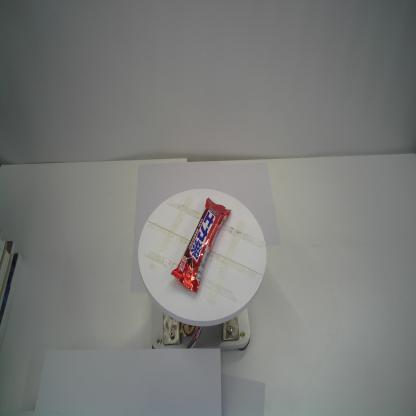Chocolate: (170, 197, 231, 293)
